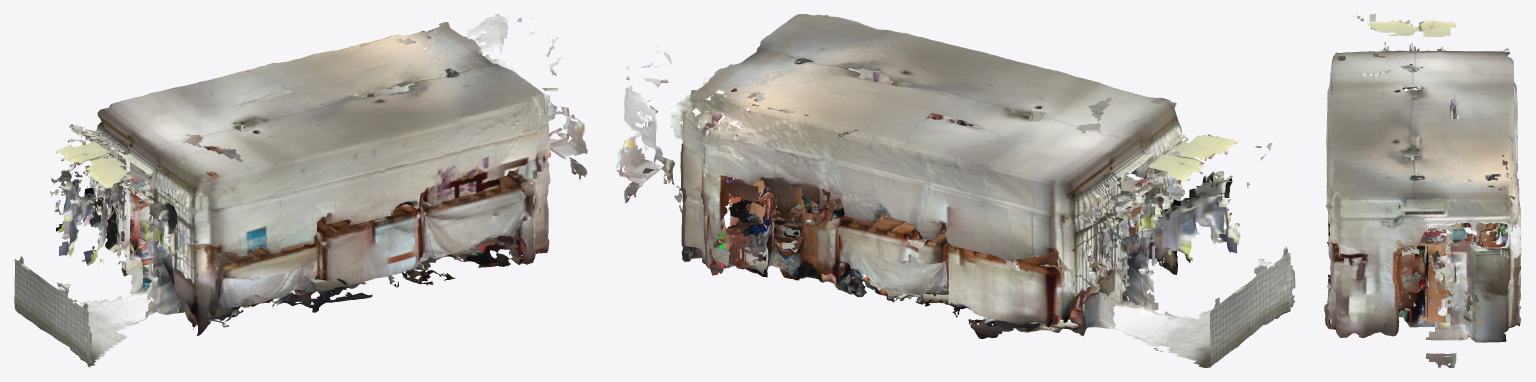
The model's file is repaired.glb.
The picture shows the model from 3 angles, left to right: view 1: azimuth 30°, elevation 25°; view 2: azimuth 150°, elevation 25°; view 3: azimuth 270°, elevation 25°; orthographic projection. The views are drawn at different scales.
Bounding box in the file's own units: 11.07 × 3.15 × 3.89.
1 material, 1 textured.
